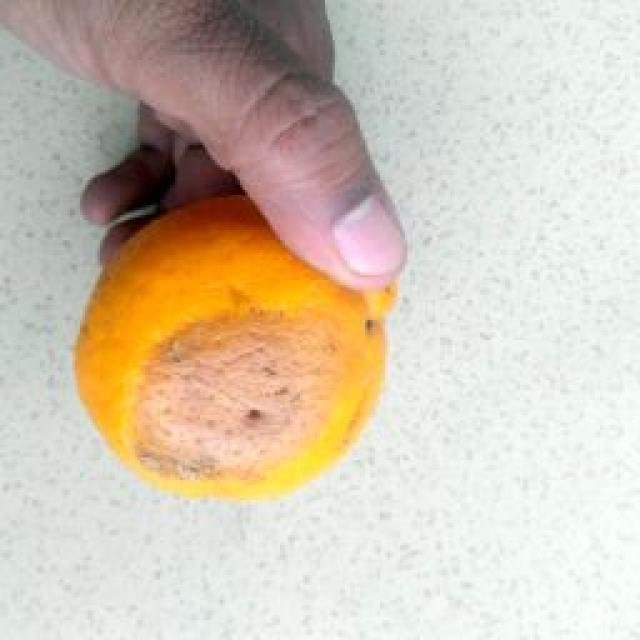Bad_Orange: (75, 196, 396, 498)
